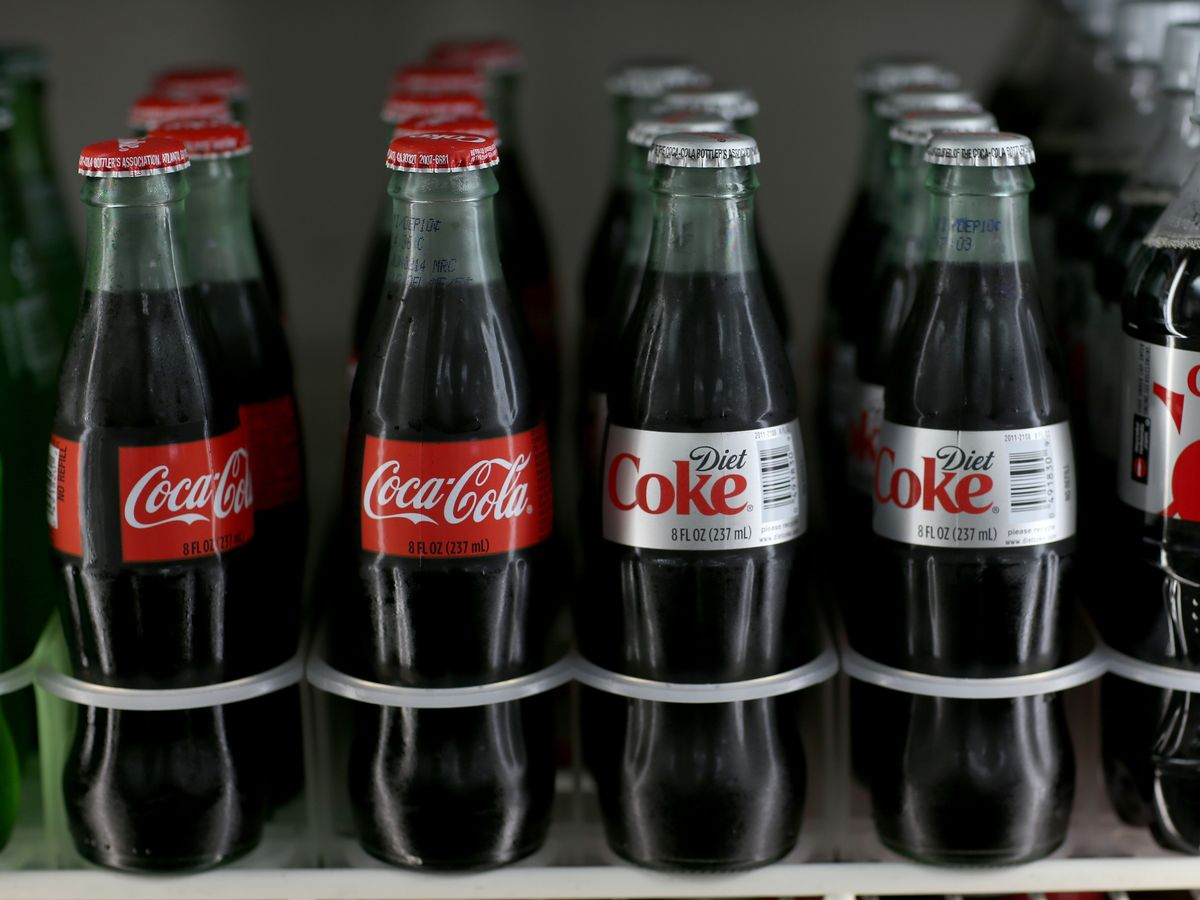Coca-Cola: (51, 130, 285, 862), (581, 128, 814, 852), (344, 107, 554, 875), (873, 147, 1078, 858)
